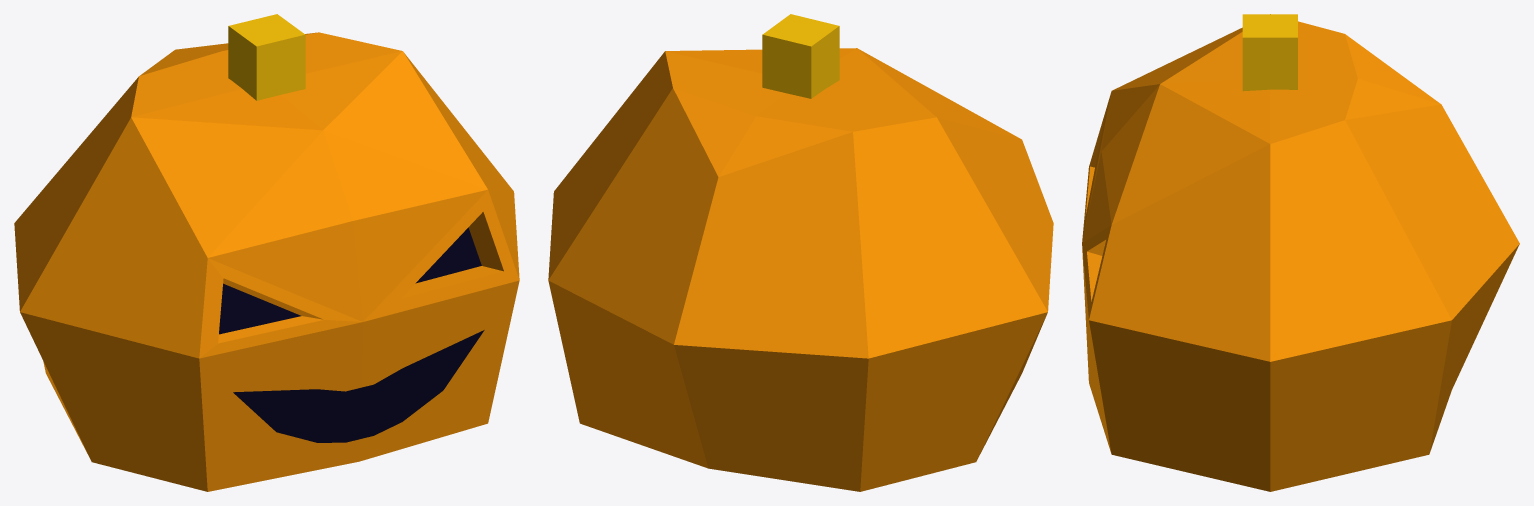
The model's file is Abobora.fbx.
3 renders of one model, left to right at view 1: azimuth 30°, elevation 25°; view 2: azimuth 150°, elevation 25°; view 3: azimuth 270°, elevation 25°, orthographic.
Parts seen in each view (by area): view 1: Cube; view 2: Cube; view 3: Cube.
Part boxes in pixels (x1,y1,x2,y2): Cube: (14, 14, 519, 491); Cube: (548, 14, 1053, 491); Cube: (1082, 14, 1519, 491).
Size of the model in its own units: 112 by 84.98 by 87.84.
